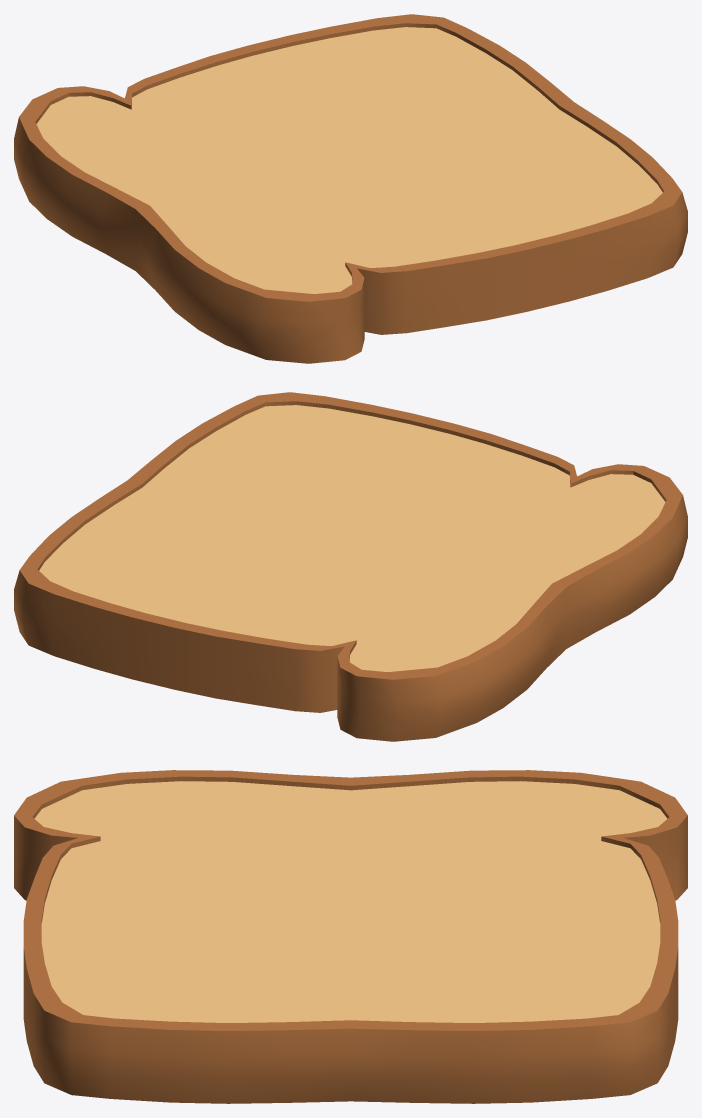
Rendered from breadslice.fbx.
3 views of the same model, one above another, from view 1: azimuth 30°, elevation 25°; view 2: azimuth 150°, elevation 25°; view 3: azimuth 270°, elevation 25° (orthographic). The views are drawn at different scales.
Parts seen in each view (by area): view 1: Cube; view 2: Cube; view 3: Cube.
Part boxes in pixels (<box>): Cube: <box>14,14,687,363</box>; Cube: <box>14,392,687,741</box>; Cube: <box>14,770,687,1103</box>.
Size of the model in its own units: 13.25 by 1.69 by 14.18.
